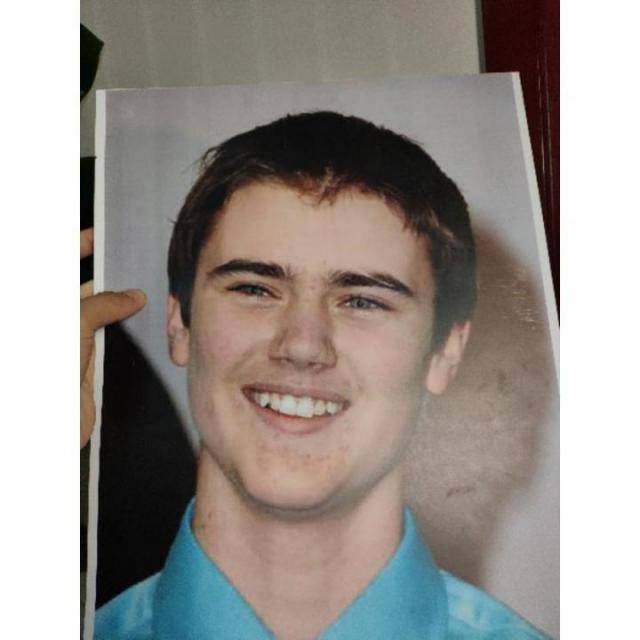photo: (90, 67, 559, 639)
